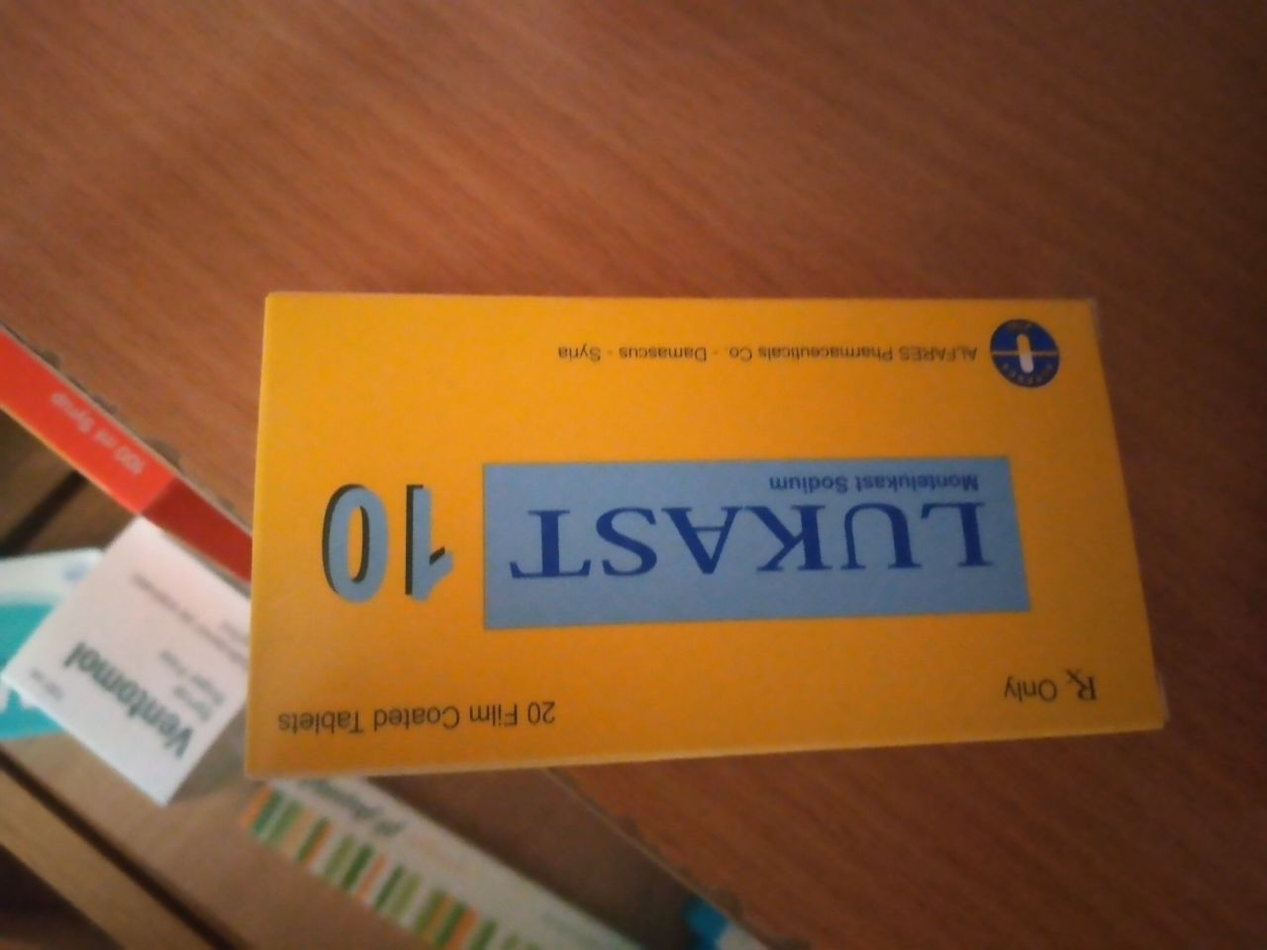Medicine: (228, 272, 1175, 804)
